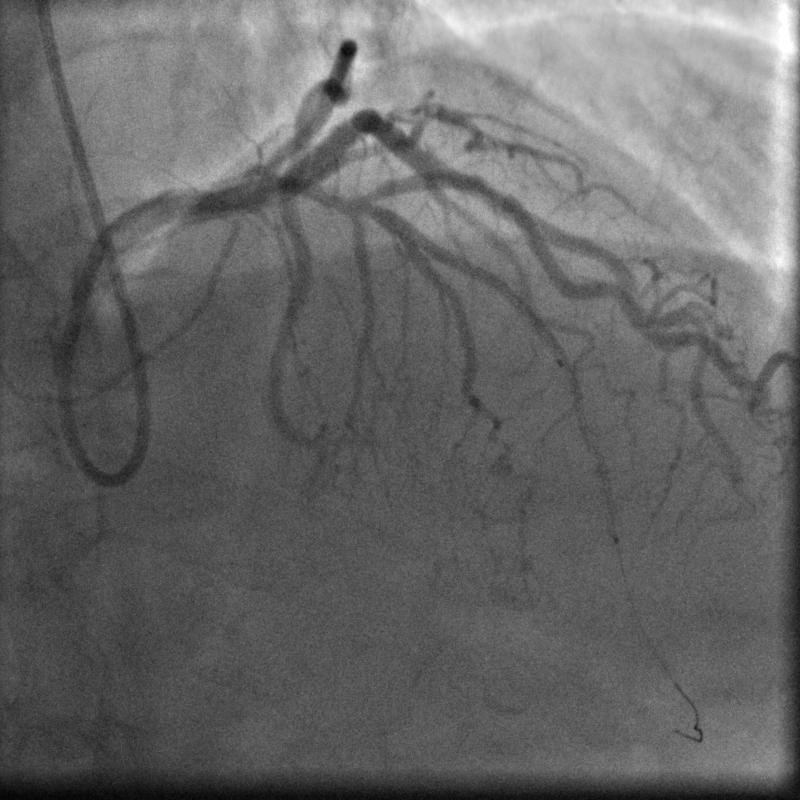Stenosis: (468, 170, 511, 212)
